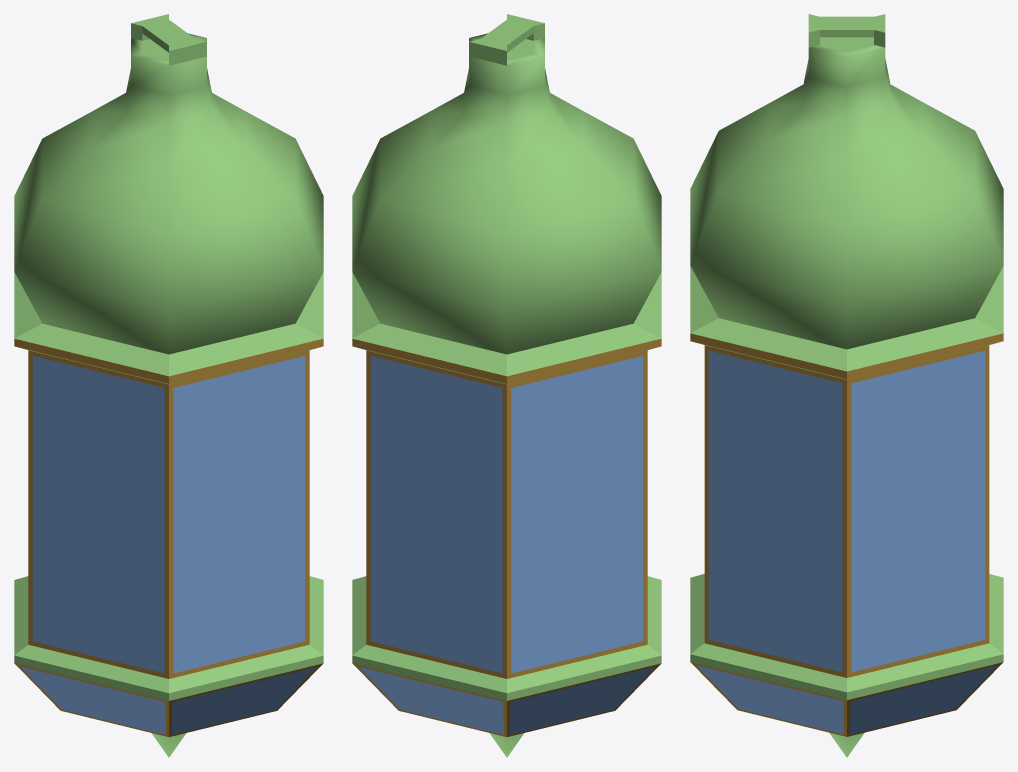
The model's file is Lamp1-v1.fbx.
3 views of the same model, side by side, from view 1: azimuth 30°, elevation 25°; view 2: azimuth 150°, elevation 25°; view 3: azimuth 270°, elevation 25° (orthographic).
Visible parts, largest first — view 1: HangingLamp-v1; view 2: HangingLamp-v1; view 3: HangingLamp-v1.
Boxes of the visible parts, x1=… form: HangingLamp-v1: x1=14, y1=14, x2=323, y2=757; HangingLamp-v1: x1=352, y1=14, x2=661, y2=757; HangingLamp-v1: x1=690, y1=14, x2=1003, y2=757.
Bounding box in the file's own units: 44 × 98.55 × 38.11.
